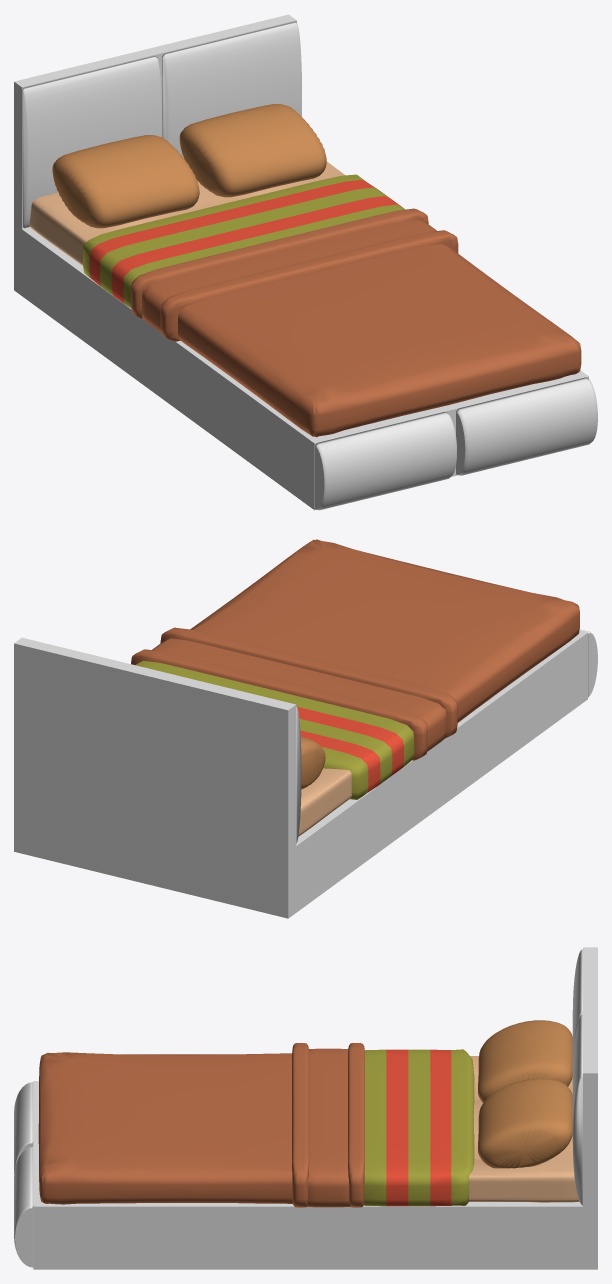
The model's file is bed_tier11.fbx.
3 views of the same model, one above another, from view 1: azimuth 30°, elevation 25°; view 2: azimuth 150°, elevation 25°; view 3: azimuth 270°, elevation 25° (orthographic). The views are drawn at different scales.
Parts seen in each view (by area): view 1: Cube.002, Cylinder.001, Cube.010, Cylinder.012, Cylinder.004, Cube.001; view 2: Cube.010, Cube.002, Cube.001, Cylinder.001, Cylinder.012; view 3: Cube.002, Cube.010, Cylinder.004, Cylinder.001, Cylinder.012, Cube.001.
Part boxes in pixels (left/top/right/bottom): Cube.002: left=83, top=174, right=581, bottom=437; Cylinder.001: left=22, top=21, right=597, bottom=510; Cube.010: left=14, top=14, right=588, bottom=510; Cylinder.012: left=52, top=135, right=199, bottom=228; Cylinder.004: left=179, top=104, right=326, bottom=197; Cube.001: left=29, top=161, right=344, bottom=265; Cube.010: left=14, top=630, right=587, bottom=918; Cube.002: left=131, top=539, right=579, bottom=799; Cube.001: left=298, top=768, right=351, bottom=836; Cylinder.001: left=296, top=629, right=597, bottom=843; Cylinder.012: left=300, top=736, right=325, bottom=789; Cube.002: left=38, top=1043, right=474, bottom=1207; Cube.010: left=33, top=947, right=597, bottom=1269; Cylinder.004: left=478, top=1078, right=572, bottom=1168; Cylinder.001: left=14, top=949, right=582, bottom=1267; Cylinder.012: left=478, top=1020, right=572, bottom=1102; Cube.001: left=468, top=1056, right=579, bottom=1202.
Size of the model in its own units: 202 by 137 by 370.
